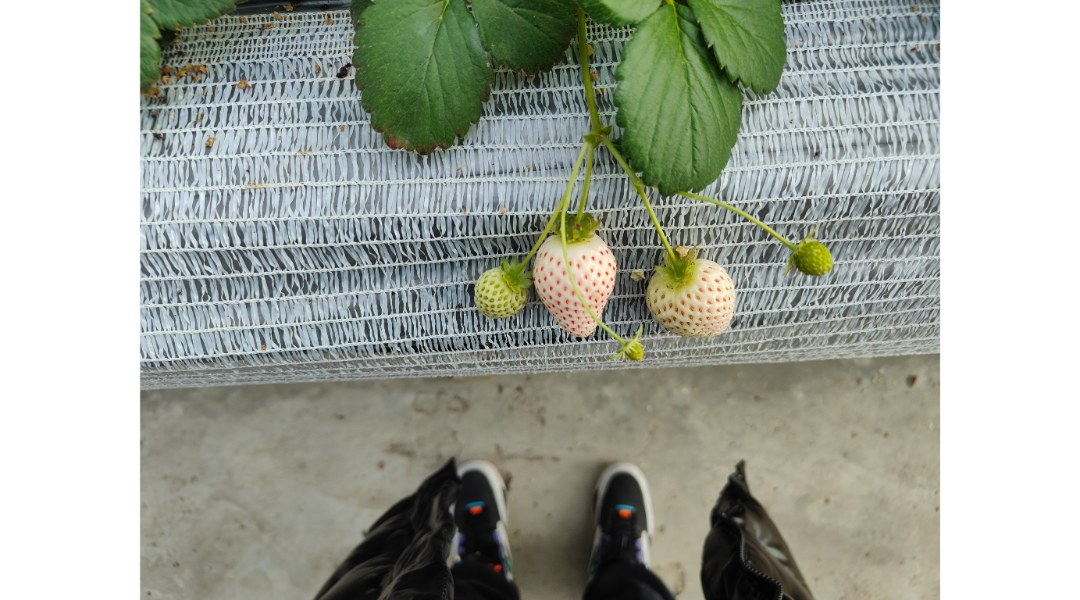berry: (531, 220, 624, 343), (645, 249, 741, 341), (465, 255, 530, 323), (783, 231, 840, 279), (621, 333, 646, 367)
strain: (608, 145, 678, 265), (677, 186, 798, 247), (578, 148, 599, 228), (564, 144, 580, 201)
